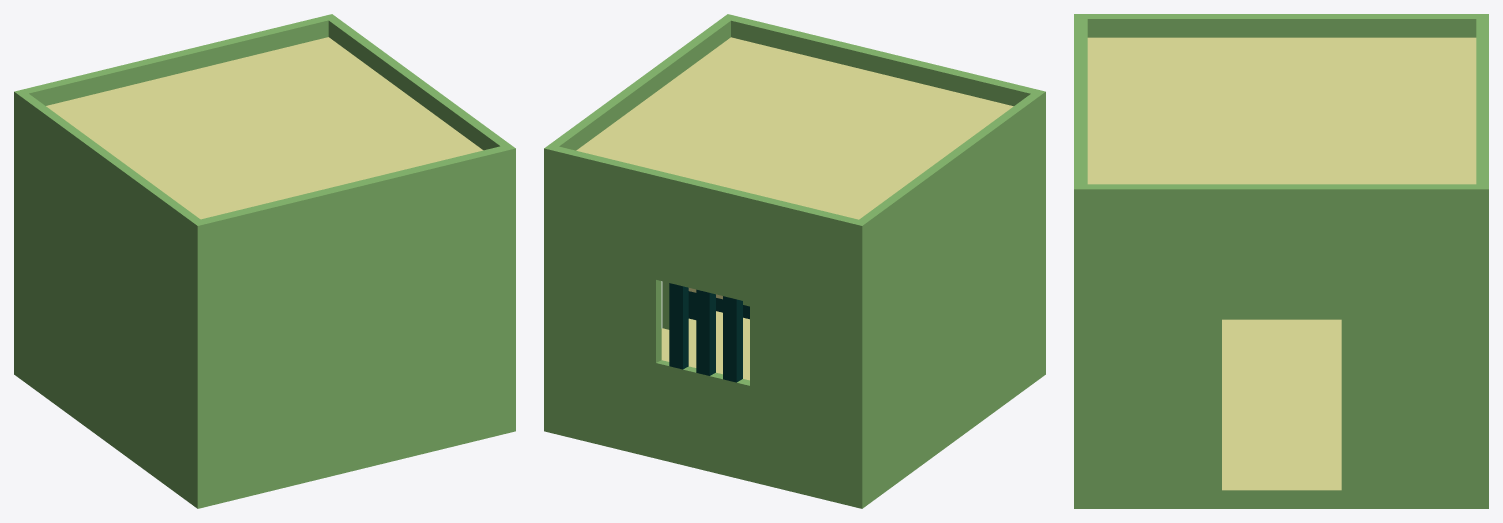
Rendered from Start Scene.fbx.
3 renders of one model, left to right at view 1: azimuth 30°, elevation 25°; view 2: azimuth 150°, elevation 25°; view 3: azimuth 270°, elevation 25°, orthographic. The views are drawn at different scales.
Visible parts, largest first — view 1: Zelle; view 2: Zelle; view 3: Zelle.
Part boxes in pixels (bbox=[...]): Zelle: bbox=[14, 14, 515, 508]; Zelle: bbox=[544, 14, 1045, 508]; Zelle: bbox=[1074, 14, 1488, 508].
Size of the model in its own units: 400 by 340 by 400.
